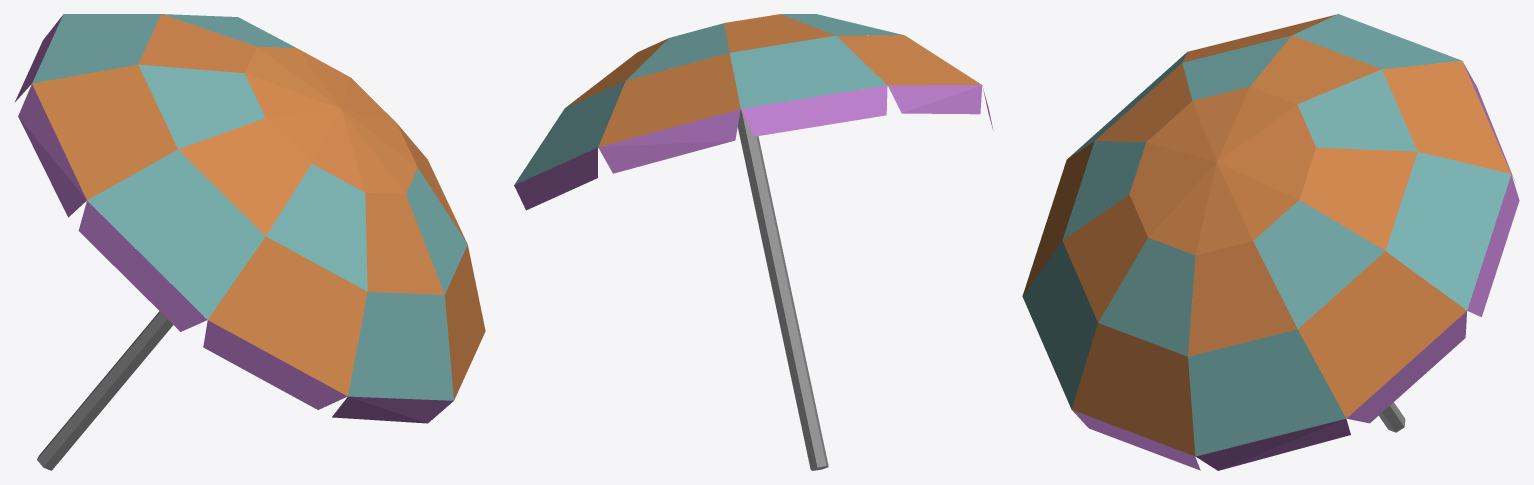
Rendered from beach-umbrella3.glb.
The picture shows the model from 3 angles, left to right: view 1: azimuth 30°, elevation 25°; view 2: azimuth 150°, elevation 25°; view 3: azimuth 270°, elevation 25°; orthographic projection. The views are drawn at different scales.
Parts seen in each view (by area): view 1: Orange_003-material, LightBlue-material, Pink-material, Gray-material; view 2: Orange_003-material, LightBlue-material, Pink-material, Gray-material; view 3: Orange_003-material, LightBlue-material, Pink-material.
Part boxes in pixels (box(x1,y1,x2,y2)): Orange_003-material: box(32, 14, 485, 400); LightBlue-material: box(32, 14, 467, 400); Pink-material: box(14, 14, 453, 423); Gray-material: box(37, 311, 172, 470); Orange_003-material: box(565, 14, 981, 146); LightBlue-material: box(514, 14, 903, 184); Pink-material: box(514, 85, 993, 210); Gray-material: box(738, 109, 828, 470); Orange_003-material: box(1022, 14, 1511, 455); LightBlue-material: box(1022, 14, 1511, 456); Pink-material: box(1072, 62, 1519, 470).
Size of the model in its own units: 14.01 by 13.36 by 14.64.
